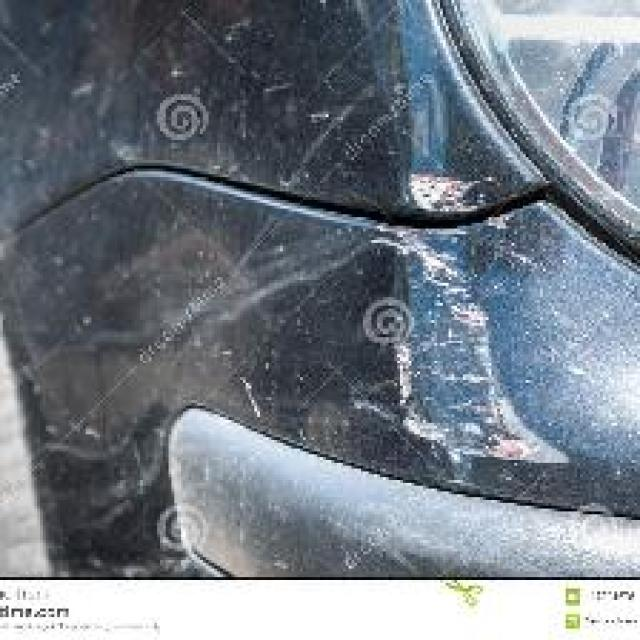bumper_scratch_moderate: (20, 0, 480, 446)
